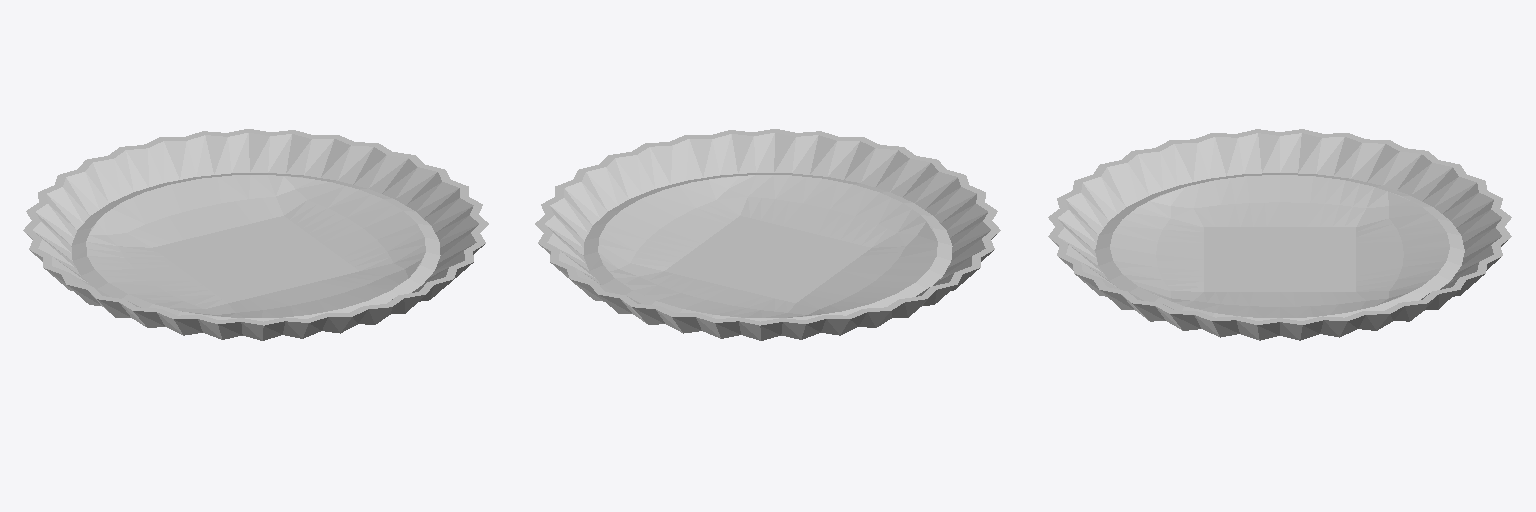
Rendered from coins 2 4 blender file 003.obj.
The picture shows the model from 3 angles: view 1: azimuth 30°, elevation 25°; view 2: azimuth 150°, elevation 25°; view 3: azimuth 270°, elevation 25°; orthographic projection.
Parts seen in each view (by area): view 1: coin_2_low; view 2: coin_2_low; view 3: coin_2_low.
Part boxes in pixels (left/top/right/bottom): coin_2_low: left=23, top=129, right=488, bottom=340; coin_2_low: left=535, top=129, right=1000, bottom=340; coin_2_low: left=1048, top=129, right=1511, bottom=340.
Size of the model in its own units: 2 by 0.2742 by 2.